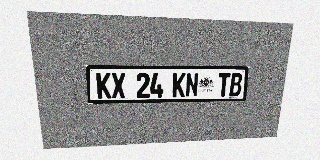2: (136, 73, 150, 98)
4: (150, 73, 163, 98)
B: (229, 73, 243, 96)
K: (96, 73, 111, 99), (172, 73, 186, 97)
N: (185, 73, 199, 97)
T: (217, 73, 231, 96)
X: (111, 73, 126, 98)
